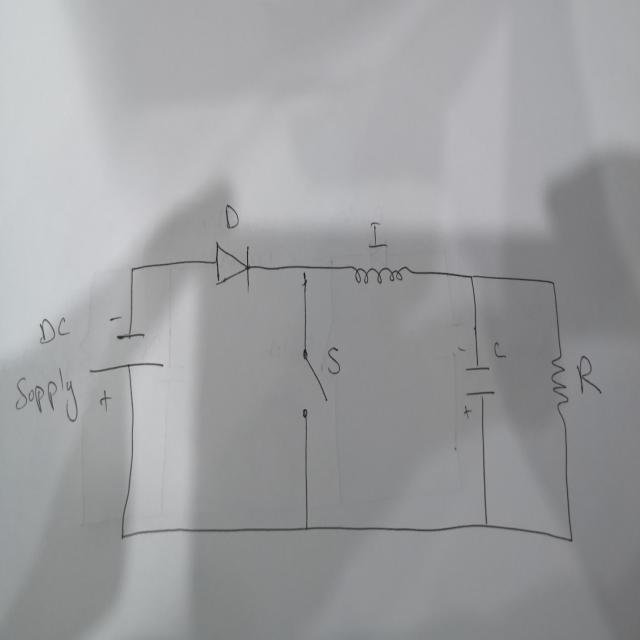capacitor: (455, 342, 497, 421)
diode: (214, 236, 252, 296)
inductor: (351, 260, 415, 287)
junction: (298, 258, 309, 282), (548, 276, 558, 291), (467, 270, 475, 284), (302, 520, 310, 533), (128, 264, 136, 276), (482, 518, 490, 530), (567, 533, 575, 545), (119, 530, 125, 542)
resistor: (550, 346, 568, 419)
source: (86, 311, 170, 416)
switch: (299, 345, 330, 419)
text: (14, 364, 80, 425), (36, 314, 70, 348), (576, 354, 602, 396), (323, 343, 344, 378), (366, 218, 388, 251), (224, 200, 238, 232), (493, 339, 506, 363)
